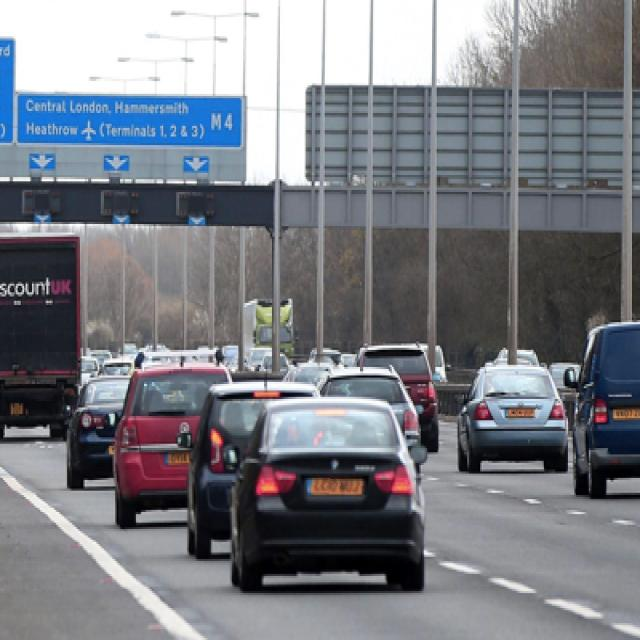licence: (307, 476, 368, 495), (502, 401, 538, 418)
